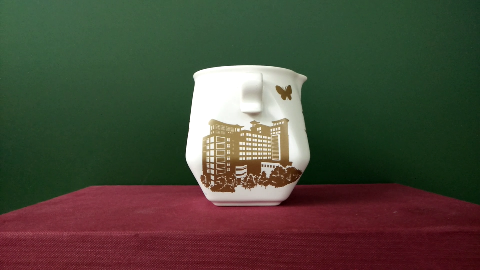butterfly: (266, 73, 300, 107)
lenwen: (208, 130, 288, 184)
